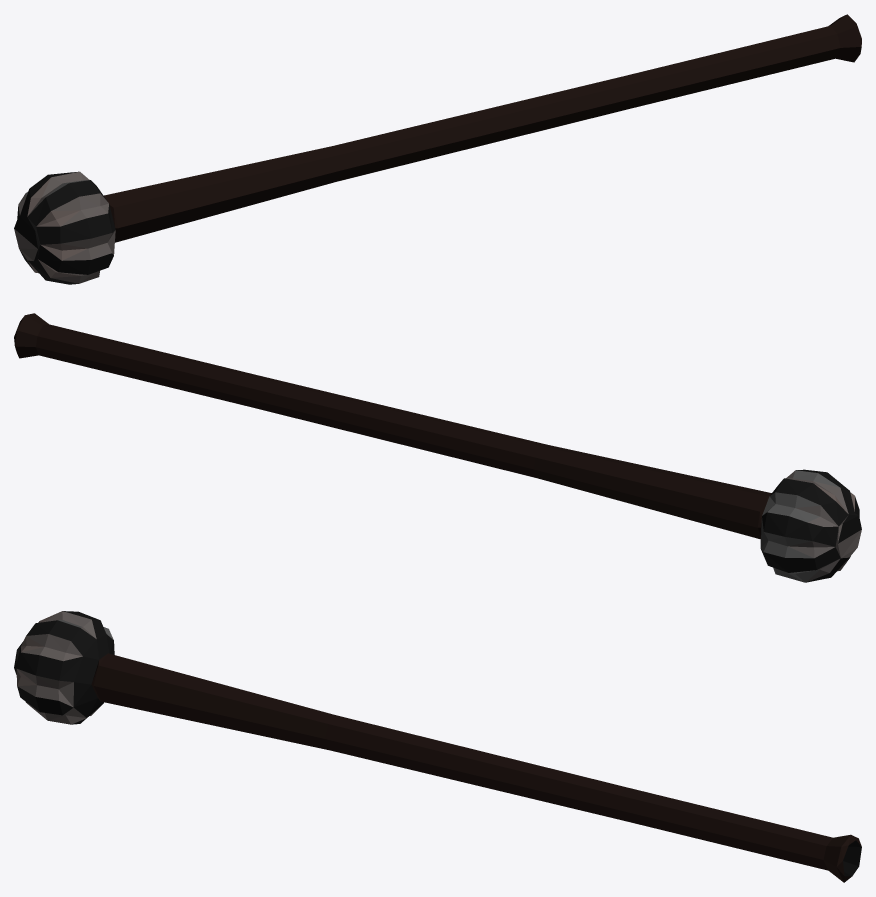
File: Model_Buzdygan.fbx
3 views of the same model, one above another, from view 1: azimuth 30°, elevation 25°; view 2: azimuth 150°, elevation 25°; view 3: azimuth 330°, elevation 25° (orthographic).
Parts seen in each view (by area): view 1: Buzdygan; view 2: Buzdygan; view 3: Buzdygan.
Part boxes in pixels (box(x1,y1,x2,y2)): Buzdygan: box(14, 14, 861, 284); Buzdygan: box(14, 313, 861, 582); Buzdygan: box(14, 611, 861, 882).
Bounding box in the file's own units: 9.5 × 9.47 × 81.2.
